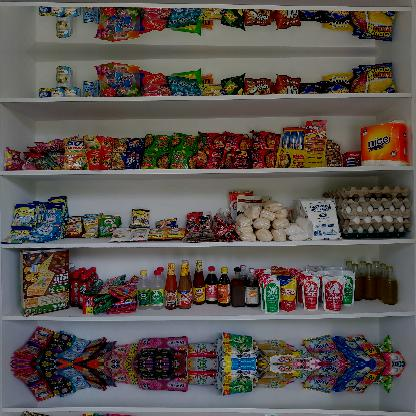Koko-Krunch: (18, 248, 72, 318)
